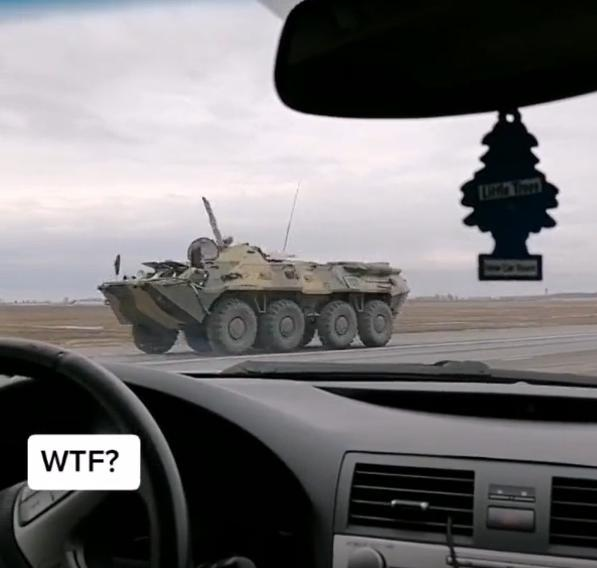tank: (99, 224, 418, 352)
